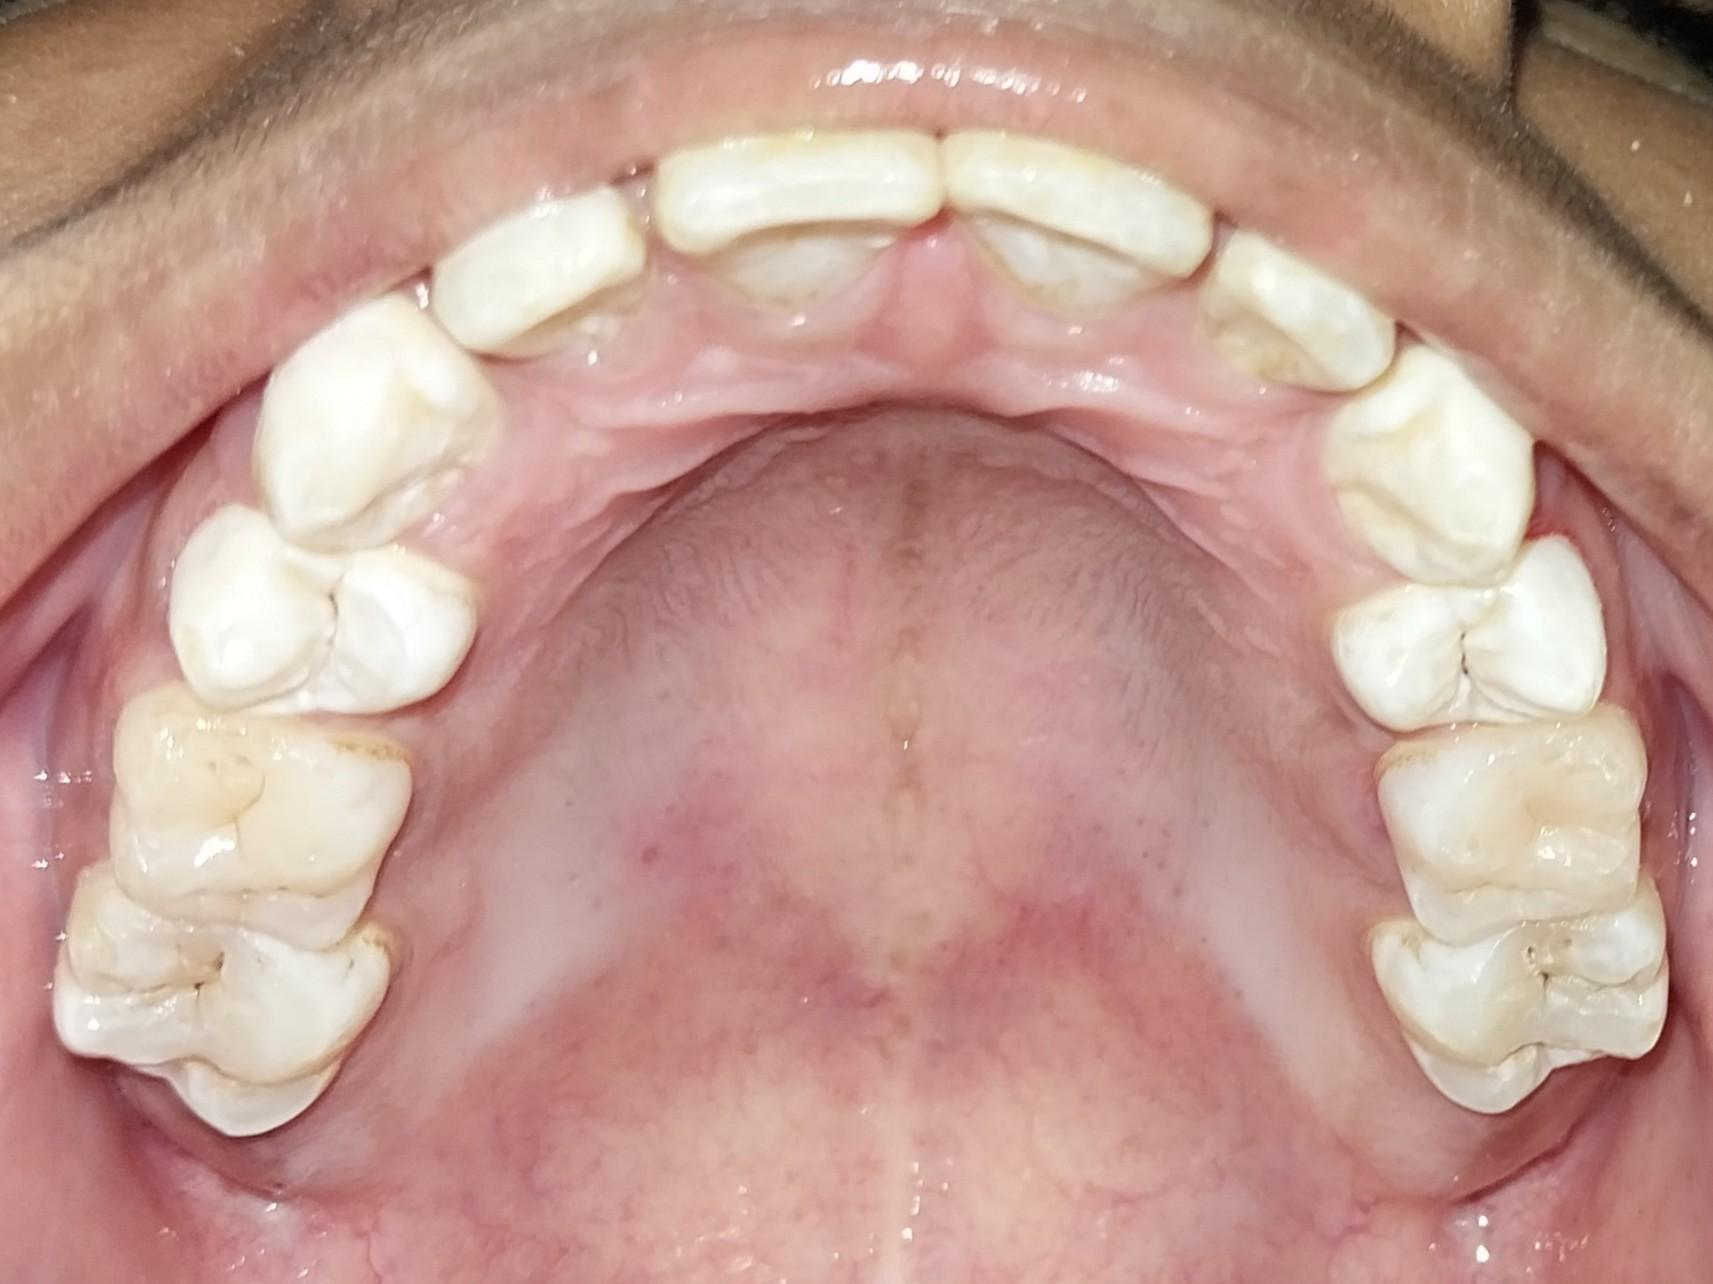D: (69, 875, 378, 1139), (1390, 884, 1669, 1112), (175, 518, 475, 725), (1337, 553, 1607, 731)
